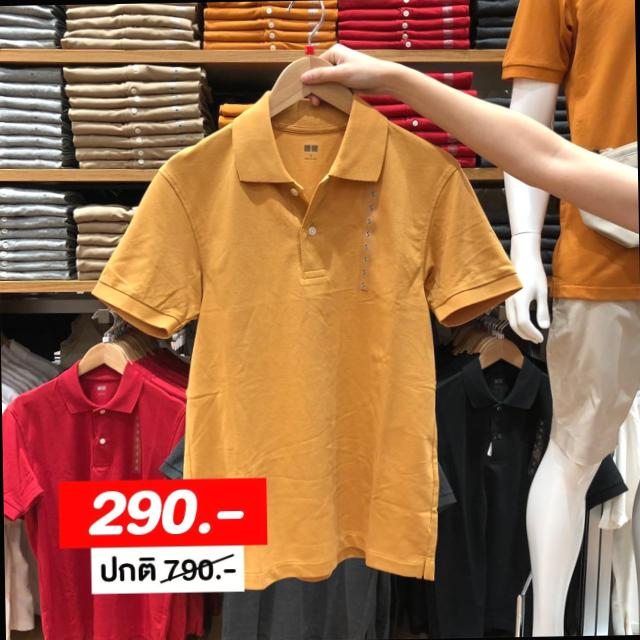Tshirt: (90, 101, 517, 602)
